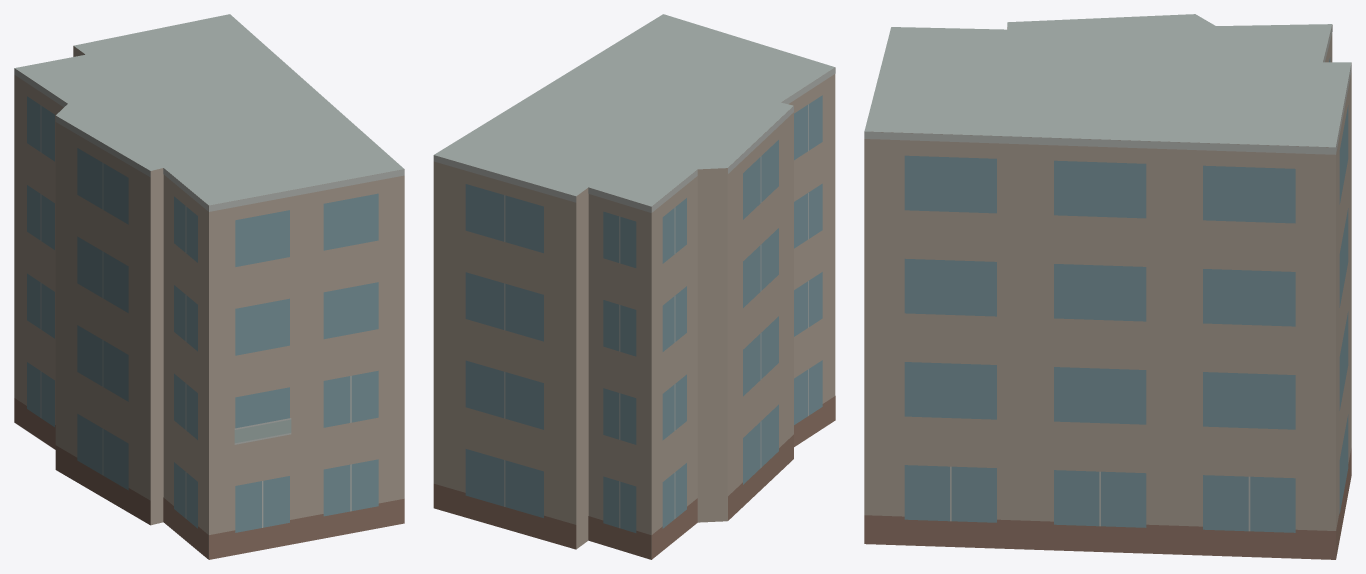
The model's file is survey-upis-32670948.glb.
The picture shows the model from 3 angles, left to right: view 1: azimuth 30°, elevation 25°; view 2: azimuth 150°, elevation 25°; view 3: azimuth 270°, elevation 25°; orthographic projection. The views are drawn at different scales.
Visible parts, largest first — view 1: survey-upis-32670948.tmp; view 2: survey-upis-32670948.tmp; view 3: survey-upis-32670948.tmp.
Boxes of the visible parts, left/top/right/bottom form: survey-upis-32670948.tmp: left=14, top=14, right=404, bottom=559; survey-upis-32670948.tmp: left=433, top=14, right=835, bottom=559; survey-upis-32670948.tmp: left=864, top=14, right=1351, bottom=559.
Size of the model in its own units: 9.33 by 13.45 by 14.41.
